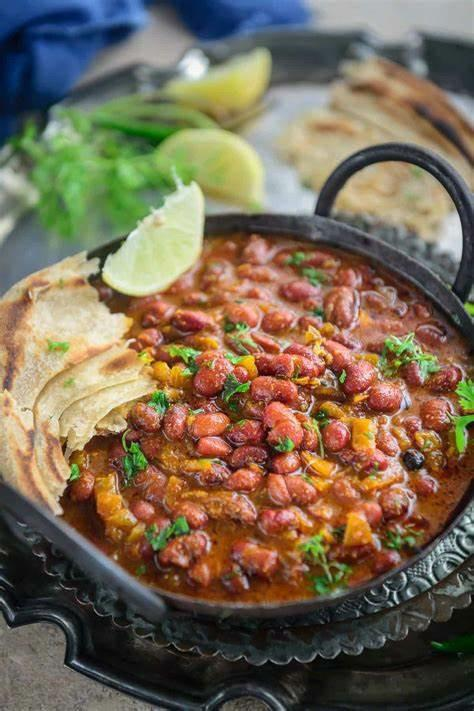RajmaCurry: (79, 228, 467, 592)
